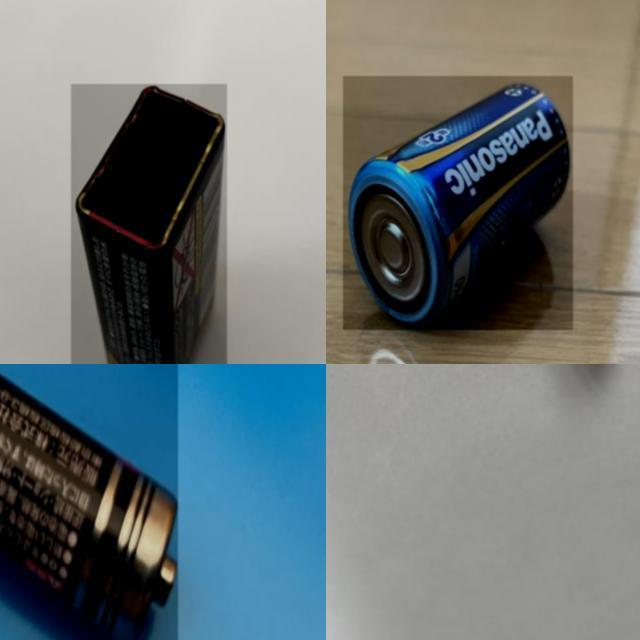9V: (71, 83, 226, 364)
